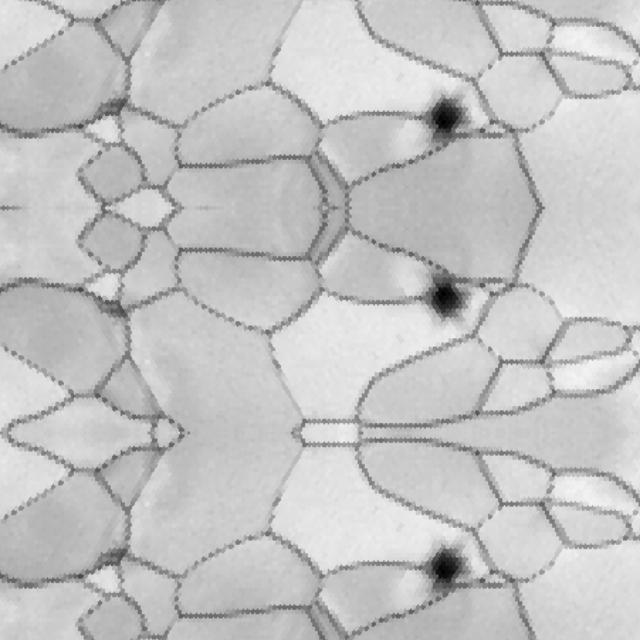good_void: (412, 263, 476, 334), (412, 80, 476, 151), (412, 531, 476, 602), (92, 295, 135, 319), (92, 95, 135, 119), (92, 546, 135, 570)
